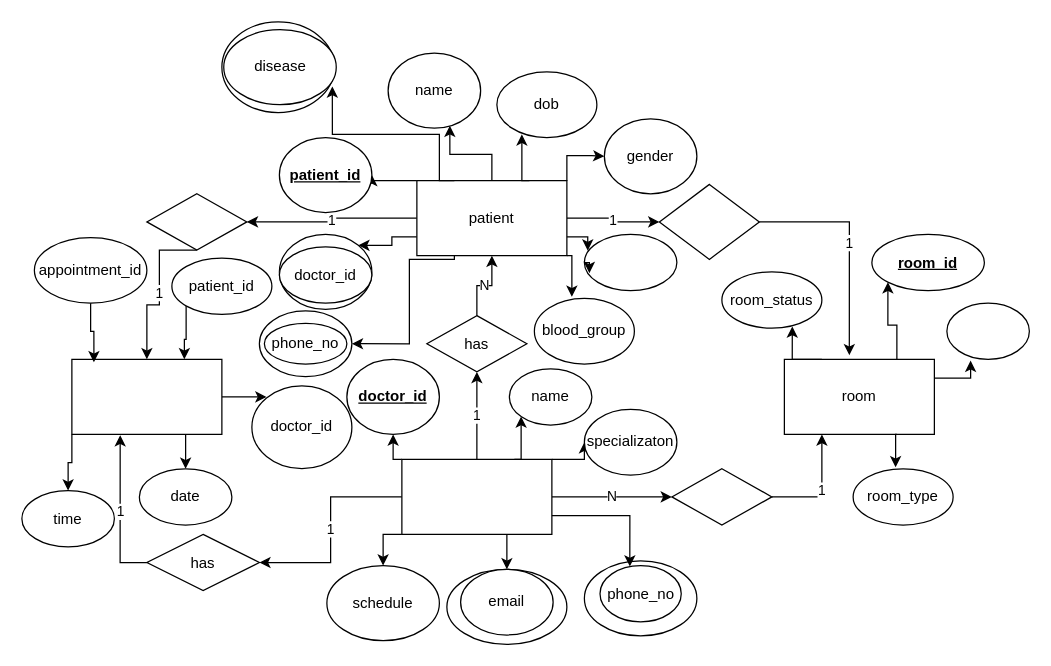
Image size: 1051x666. Some labels were removed from this diagram. The centre of each missing label's shape, as x and y in pixels:
"address" goes at point 630,262.
"appointment" goes at point 146,396.
"books" goes at point 196,221.
"doctor" goes at point 476,496.
"has patient" goes at point 721,496.
"is alloted" goes at point 708,221.
"price" goes at point 987,330.
